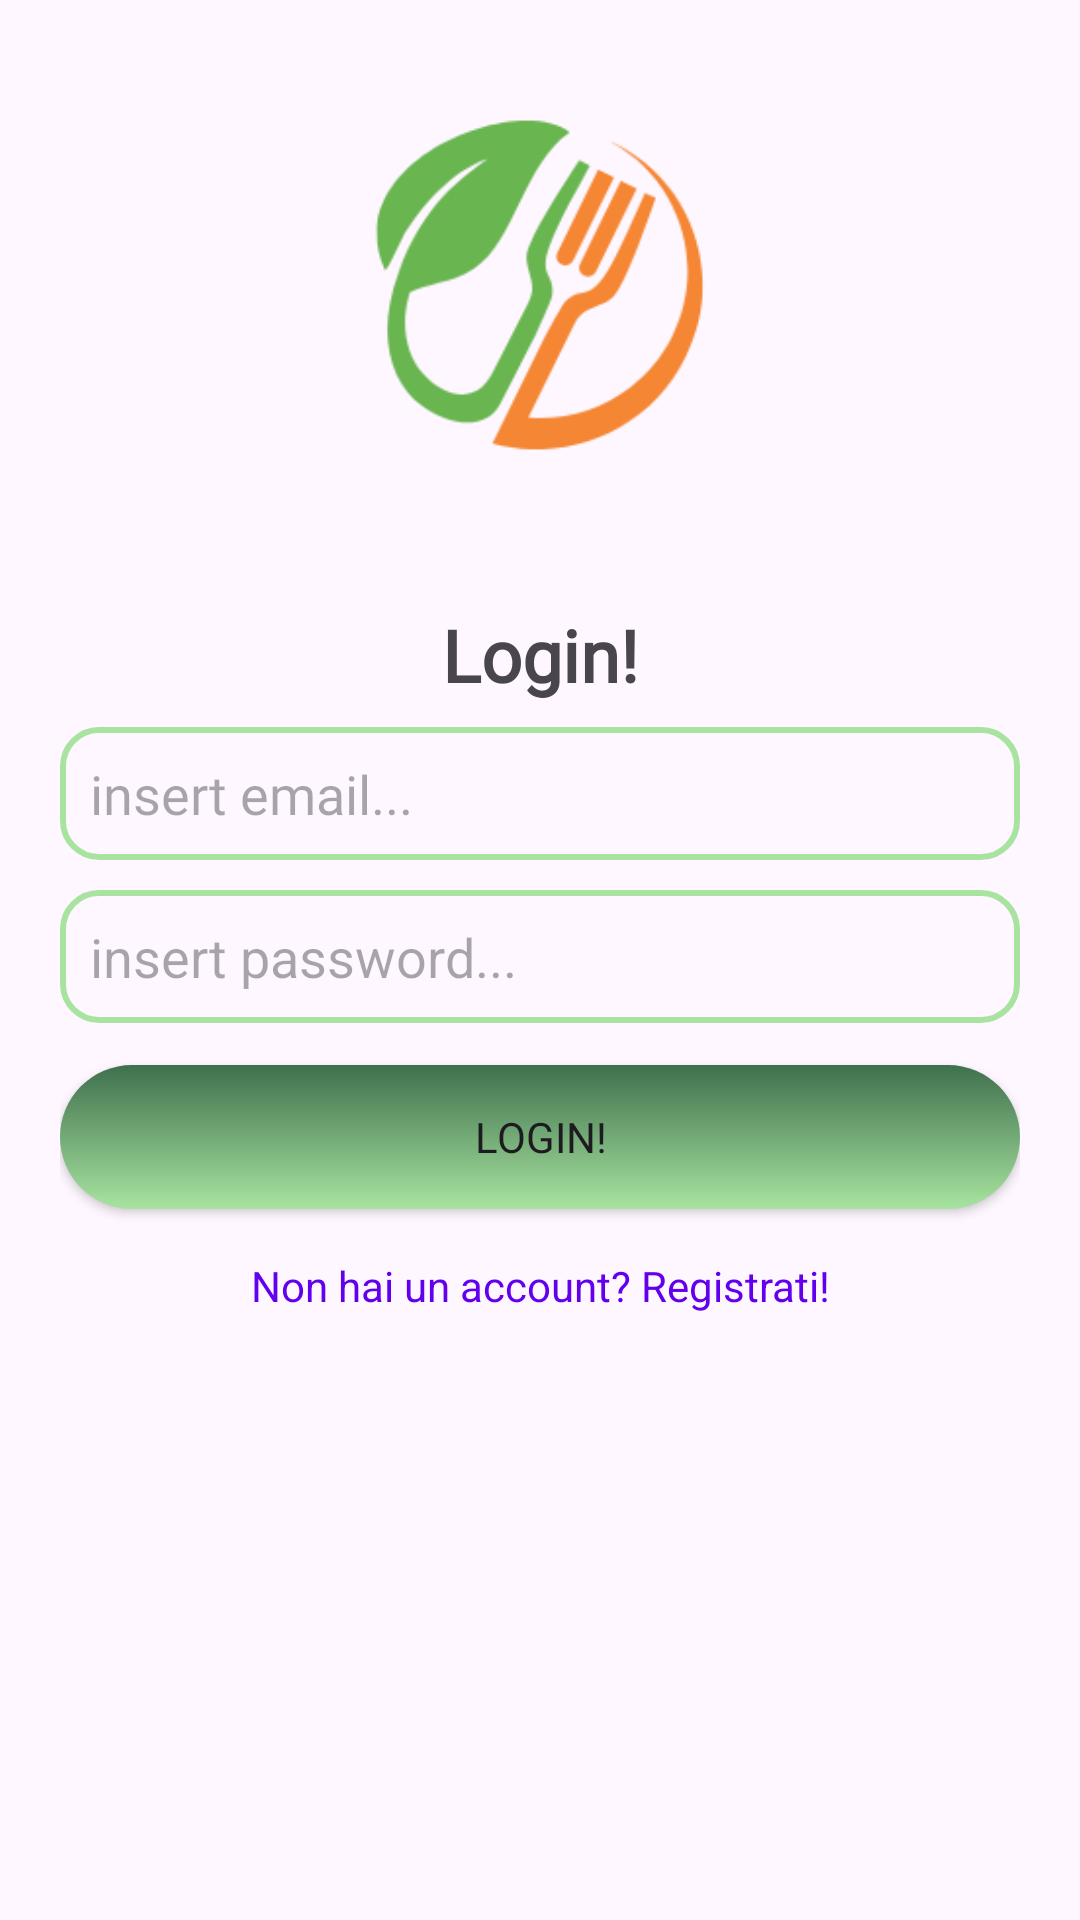

Named icons in this screenshot (1080w x 1920h) and their centers, point (x, y):
icona: point (539, 285)
